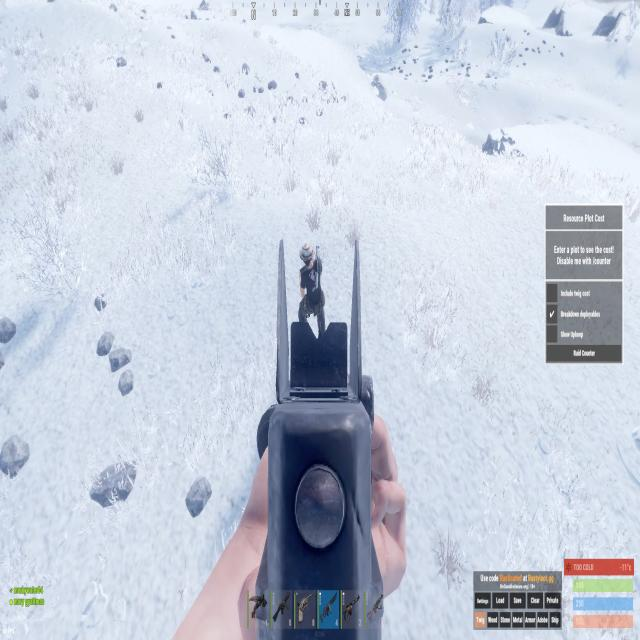Player: (298, 241, 327, 343)
